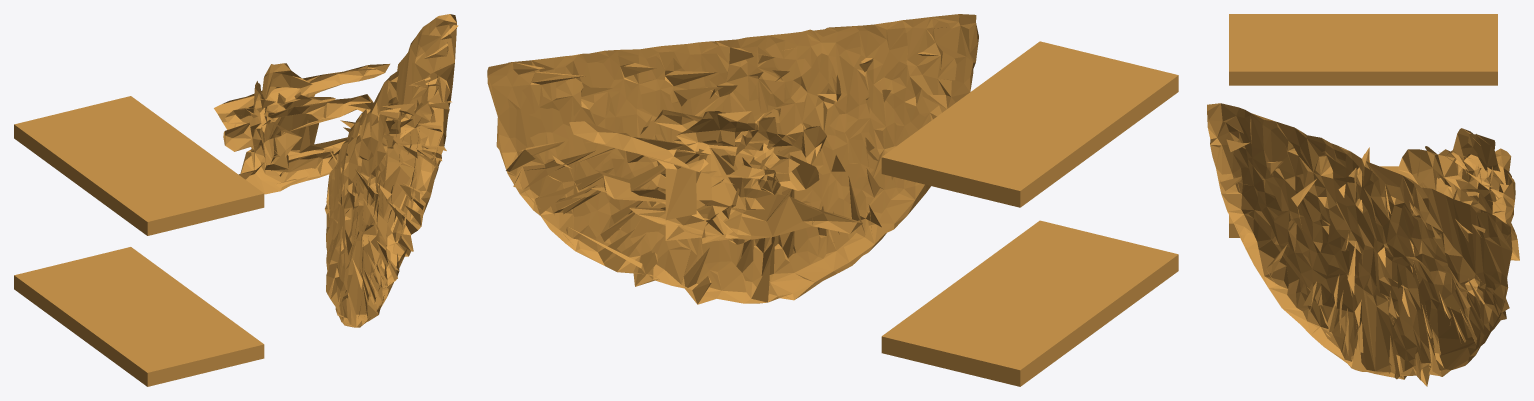
The model's file is improved.glb.
The picture shows the model from 3 angles, left to right: view 1: azimuth 30°, elevation 25°; view 2: azimuth 150°, elevation 25°; view 3: azimuth 270°, elevation 25°; orthographic projection. The views are drawn at different scales.
Parts seen in each view (by area): view 1: world; view 2: world; view 3: world.
Boxes of the visible parts, x1=… form: world: x1=14, y1=14, x2=458, y2=386; world: x1=487, y1=14, x2=1178, y2=386; world: x1=1207, y1=14, x2=1519, y2=386.
Bounding box in the file's own units: 0.74 × 0.3406 × 0.4459.
